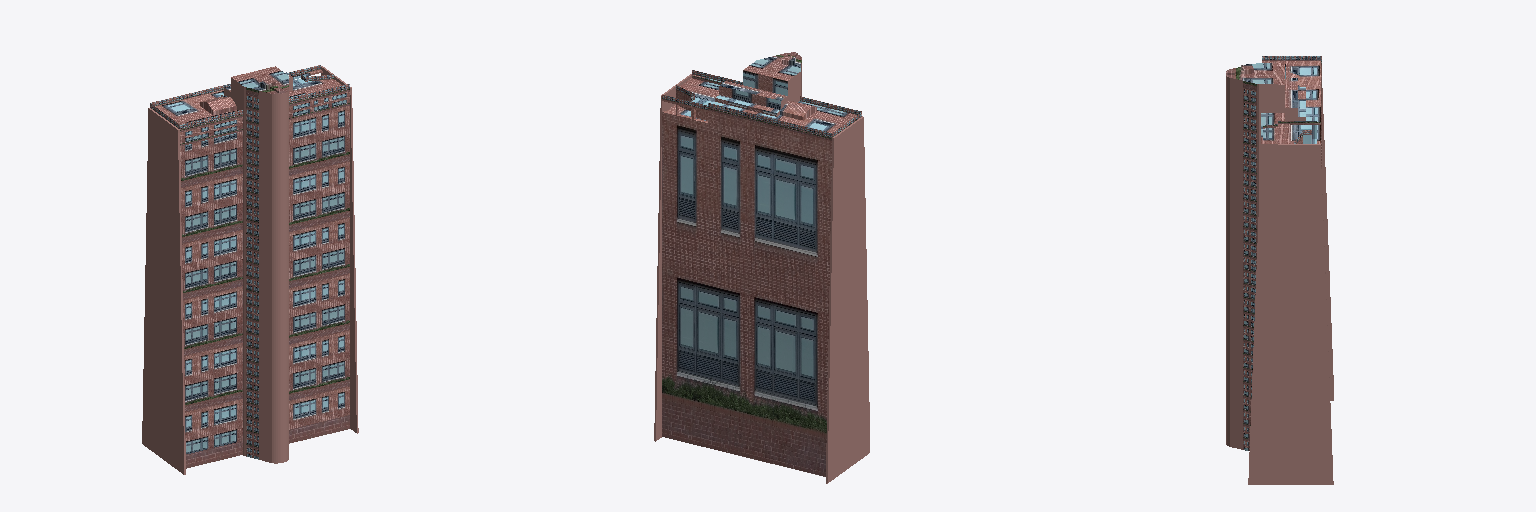
3 renders of one model, left to right at view 1: azimuth 30°, elevation 25°; view 2: azimuth 150°, elevation 25°; view 3: azimuth 270°, elevation 25°, orthographic.
Visible parts, largest first — view 1: 3d-model; view 2: 3d-model; view 3: 3d-model.
Part boxes in pixels (x1,y1,x2,y2): 3d-model: (142, 65, 358, 474); 3d-model: (654, 52, 869, 483); 3d-model: (1226, 56, 1333, 484).
Bounding box in the file's own units: 14.55 × 29.84 × 7.89.
Materials: 3 (1 with a texture image).